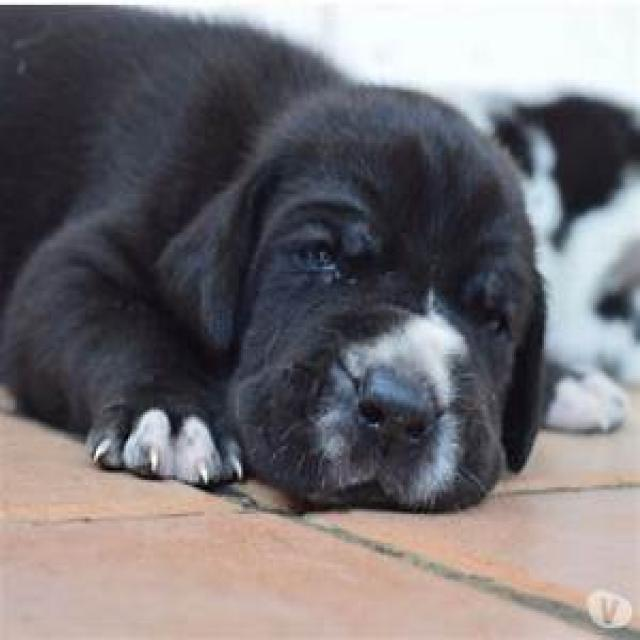dog: (0, 7, 548, 516)
